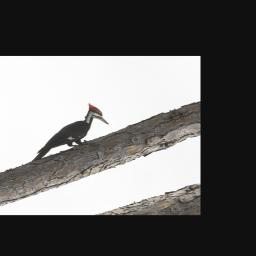Woodpecker: (11, 100, 115, 162)
